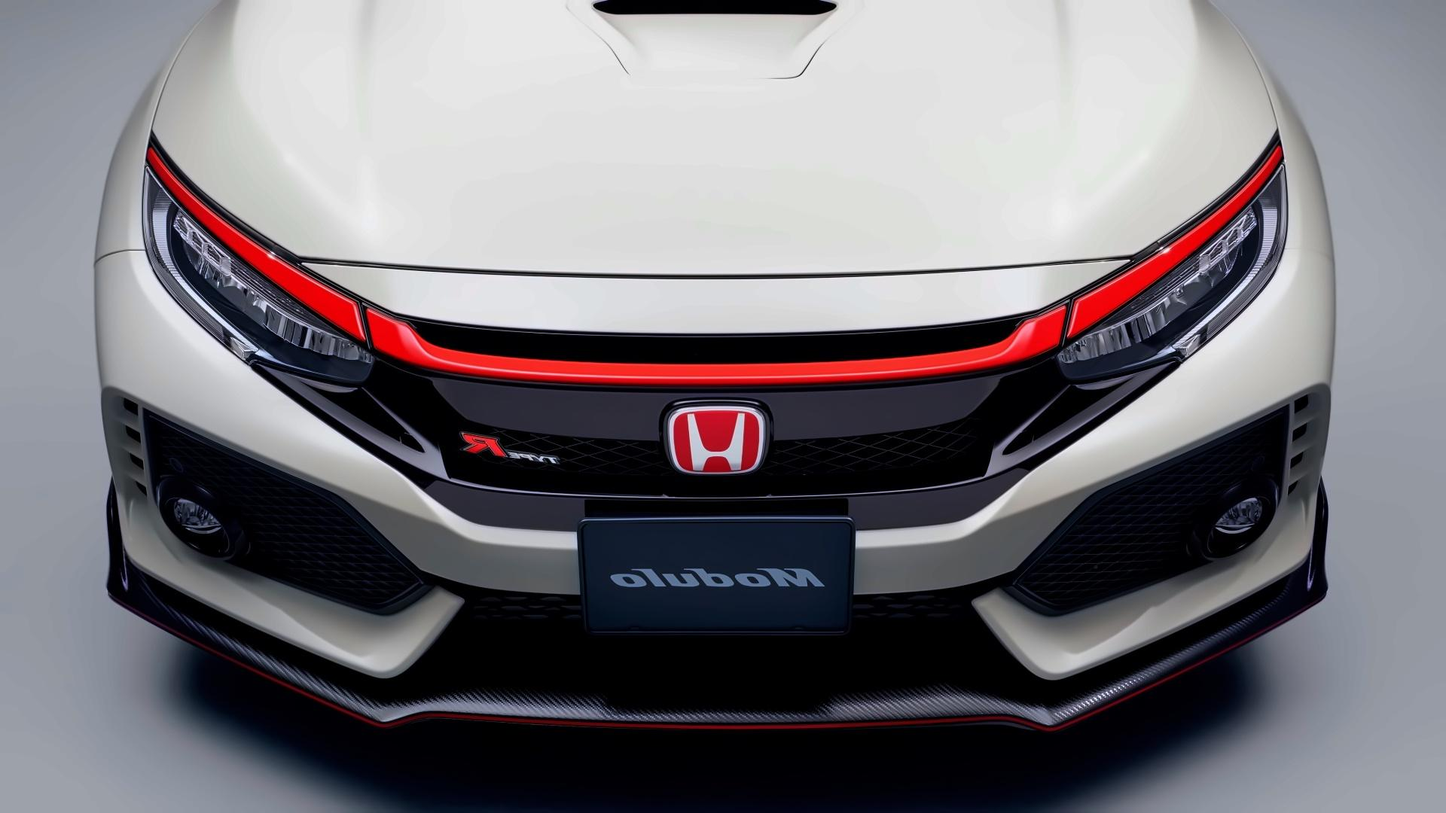Car hood: (143, 1, 1304, 281)
Front bumper: (89, 241, 1342, 769)
Headlight - -L-: (1057, 128, 1292, 391)
Headlight - -R-: (141, 123, 376, 398)
